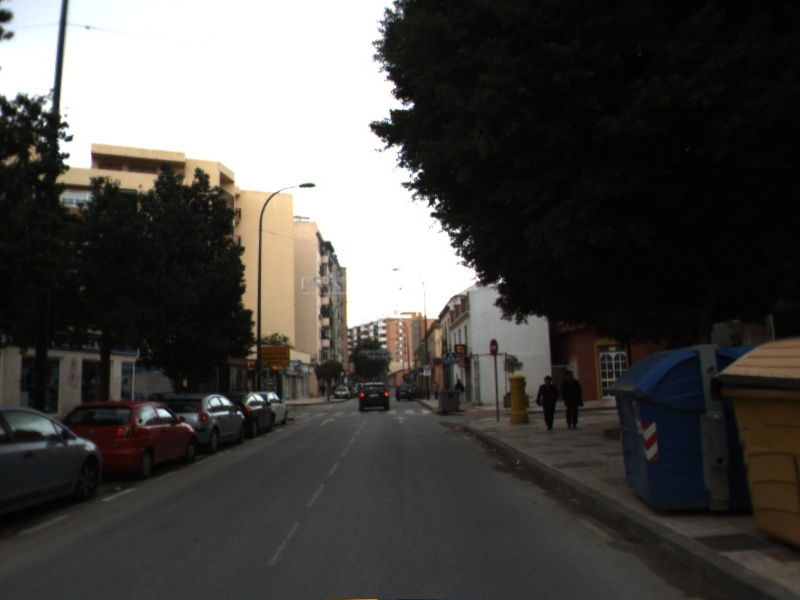STRAIGHT: (318, 416, 338, 427), (391, 414, 410, 425)
